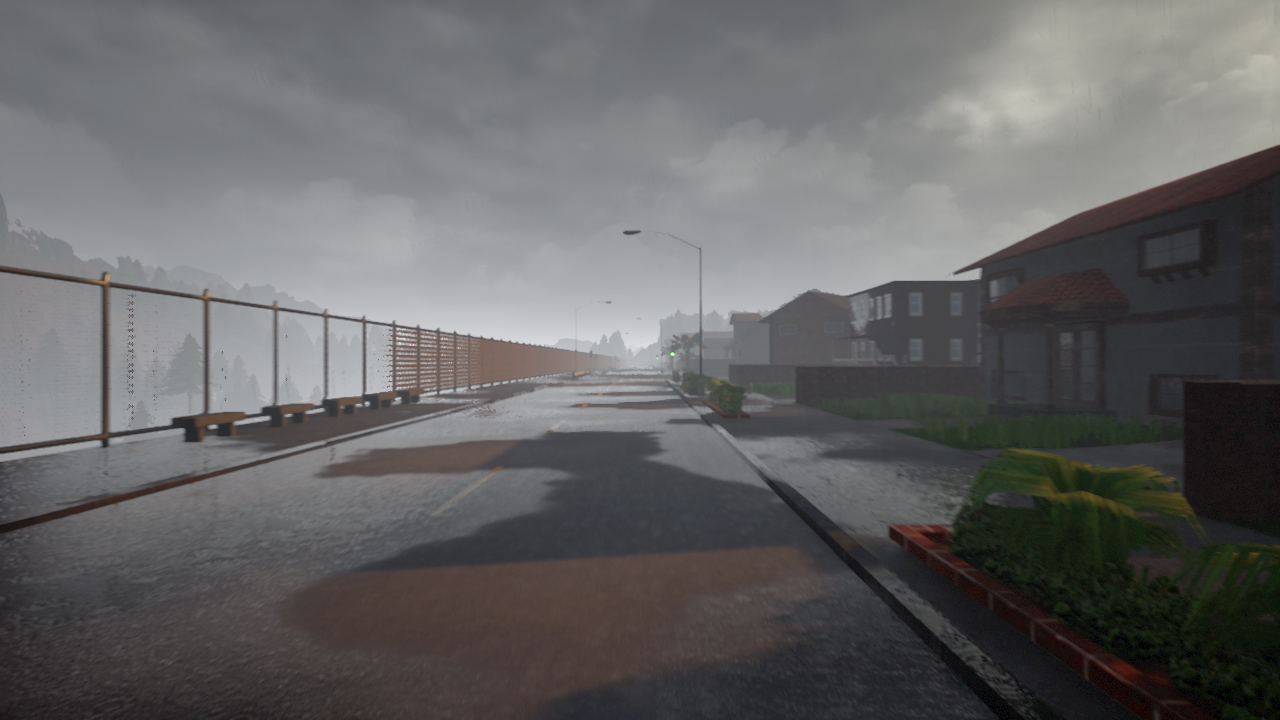green: (669, 345, 675, 357)
